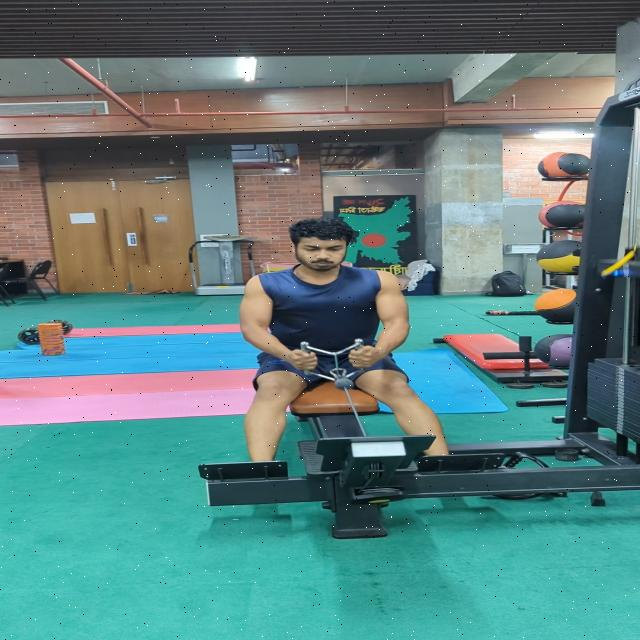Normal_RowingMachineExercise: (232, 215, 455, 470)
